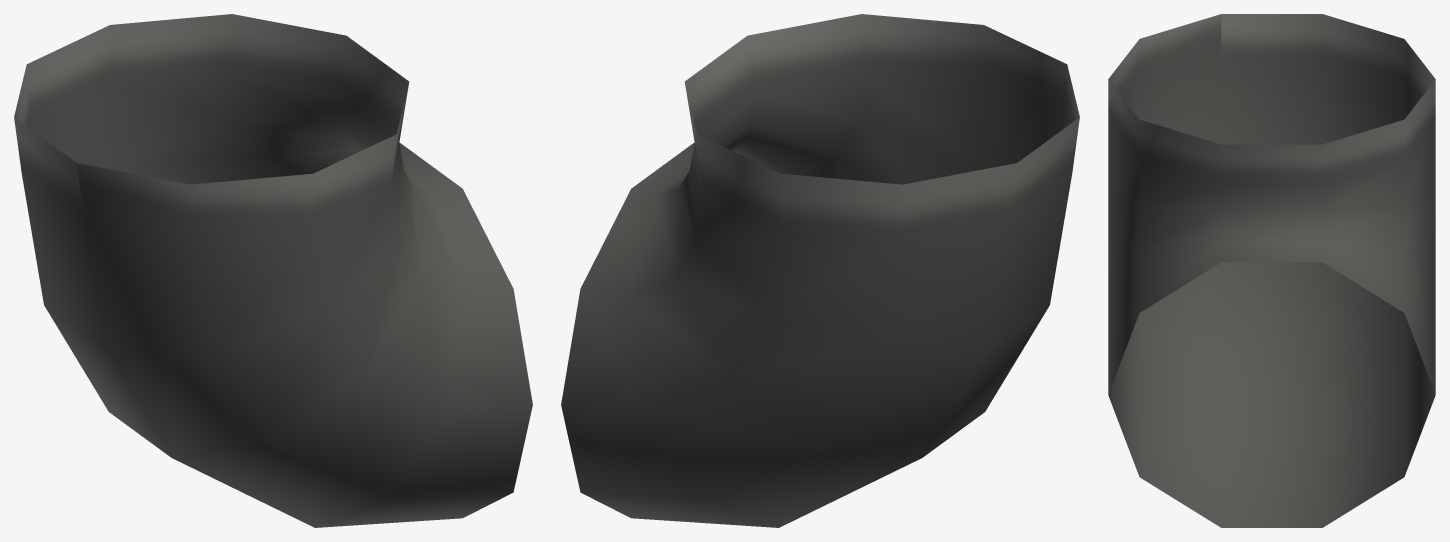
Rendered from SM_LargeTankPipeCurve.fbx.
The picture shows the model from 3 angles, left to right: view 1: azimuth 30°, elevation 25°; view 2: azimuth 150°, elevation 25°; view 3: azimuth 270°, elevation 25°; orthographic projection. The views are drawn at different scales.
Parts seen in each view (by area): view 1: LargeTankPipeCurve; view 2: LargeTankPipeCurve; view 3: LargeTankPipeCurve.
Boxes of the visible parts, box(x1,y1,x2,y2) form: LargeTankPipeCurve: box(14, 14, 532, 527); LargeTankPipeCurve: box(561, 14, 1079, 527); LargeTankPipeCurve: box(1108, 14, 1435, 527).
Bounding box in the file's own units: 29.44 × 32.78 × 26.84.
